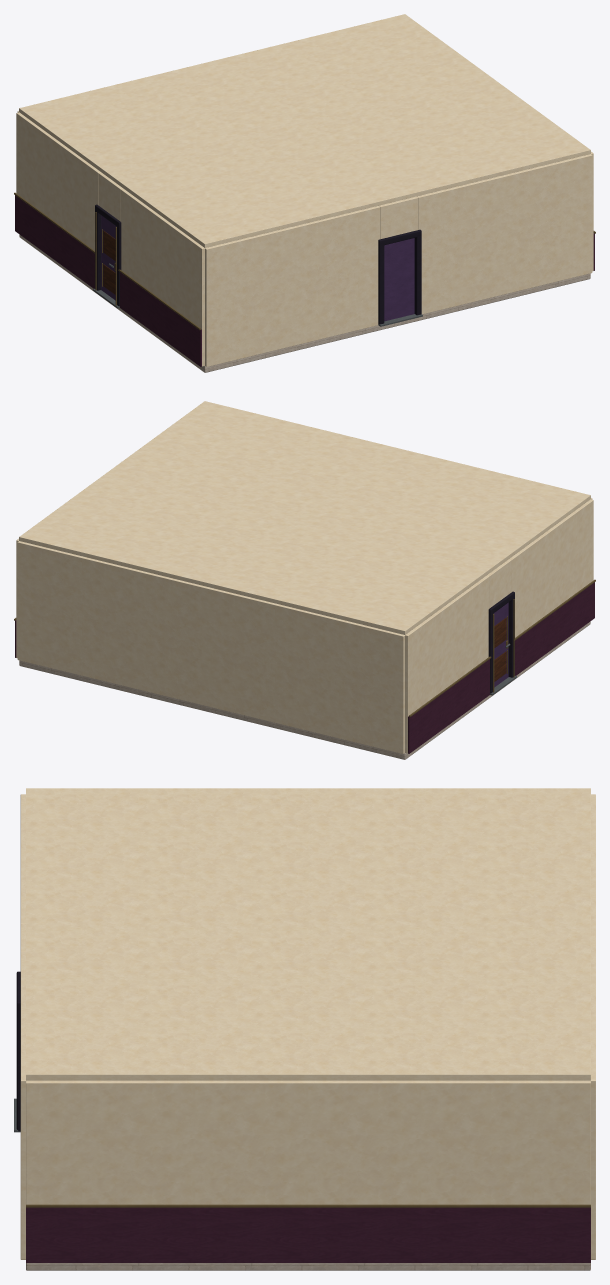
File: explore3d__reading_room.glb
The picture shows the model from 3 angles, top to bottom: view 1: azimuth 30°, elevation 25°; view 2: azimuth 150°, elevation 25°; view 3: azimuth 270°, elevation 25°; orthographic projection. The views are drawn at different scales.
Visible parts, largest first — view 1: ceiling.027, wall.072, wall.071, wall.075, wall.074, lower_panel.074, lower_panel.073, reading_room_floor, front.026_leaf, door_lintel.018, door_lintel.019, front.026_jamb (+3 smaller); view 2: ceiling.027, wall.073, wall.074, wall.075, lower_panel.073, reading_room_floor, lower_panel.074, door_lintel.019, west.013_leaf, west.013_jamb.001; view 3: ceiling.027, wall.076, lower_panel.075, reading_room_floor, wall.073, panel_rail.075, wall.071, wall.072.
Boxes of the visible parts, x1,y1,x2,y2 form: ceiling.027: (19,14,590,247); wall.072: (205,206,380,366); wall.071: (417,154,592,314); wall.075: (120,188,204,366); wall.074: (16,112,100,250); lower_panel.074: (120,272,201,366); lower_panel.073: (15,195,94,288); reading_room_floor: (19,234,590,372); front.026_leaf: (384,238,414,321); door_lintel.018: (379,196,418,239); door_lintel.019: (98,172,122,220); front.026_jamb: (414,235,421,315); ceiling.027: (19,401,590,634); wall.073: (17,541,404,753); wall.074: (405,575,489,753); wall.075: (509,499,593,637); lower_panel.073: (408,659,489,753); reading_room_floor: (19,621,590,759); lower_panel.074: (515,582,594,675); door_lintel.019: (487,559,511,607); west.013_leaf: (493,602,508,687); west.013_jamb.001: (508,595,514,677); ceiling.027: (26,788,590,1080); wall.076: (26,1080,590,1204); lower_panel.075: (26,1207,590,1262); reading_room_floor: (26,1263,590,1270); wall.073: (591,794,595,1259); panel_rail.075: (26,1204,590,1207); wall.071: (20,951,25,1259); wall.072: (20,794,25,923).
Bounding box in the file's own units: 12.37 × 3.84 × 10.3.
14 materials, 13 textured.
